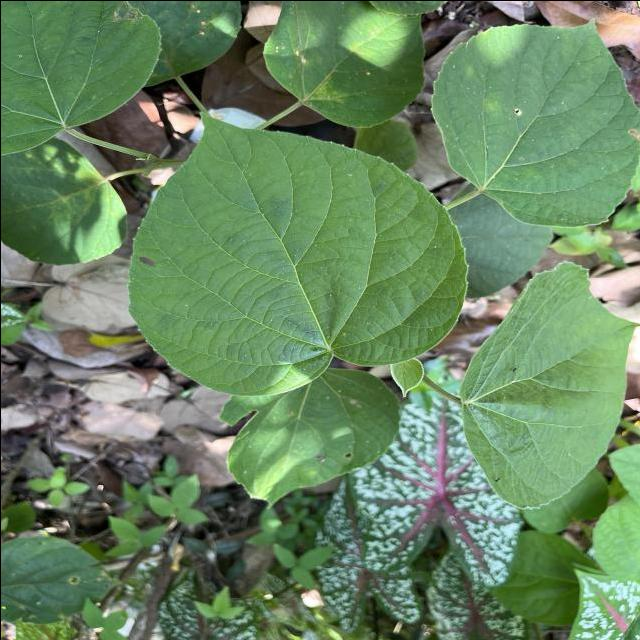Clerodendrum infortunatum: (125, 110, 471, 398), (456, 258, 640, 510), (432, 16, 640, 227), (216, 365, 401, 510)
